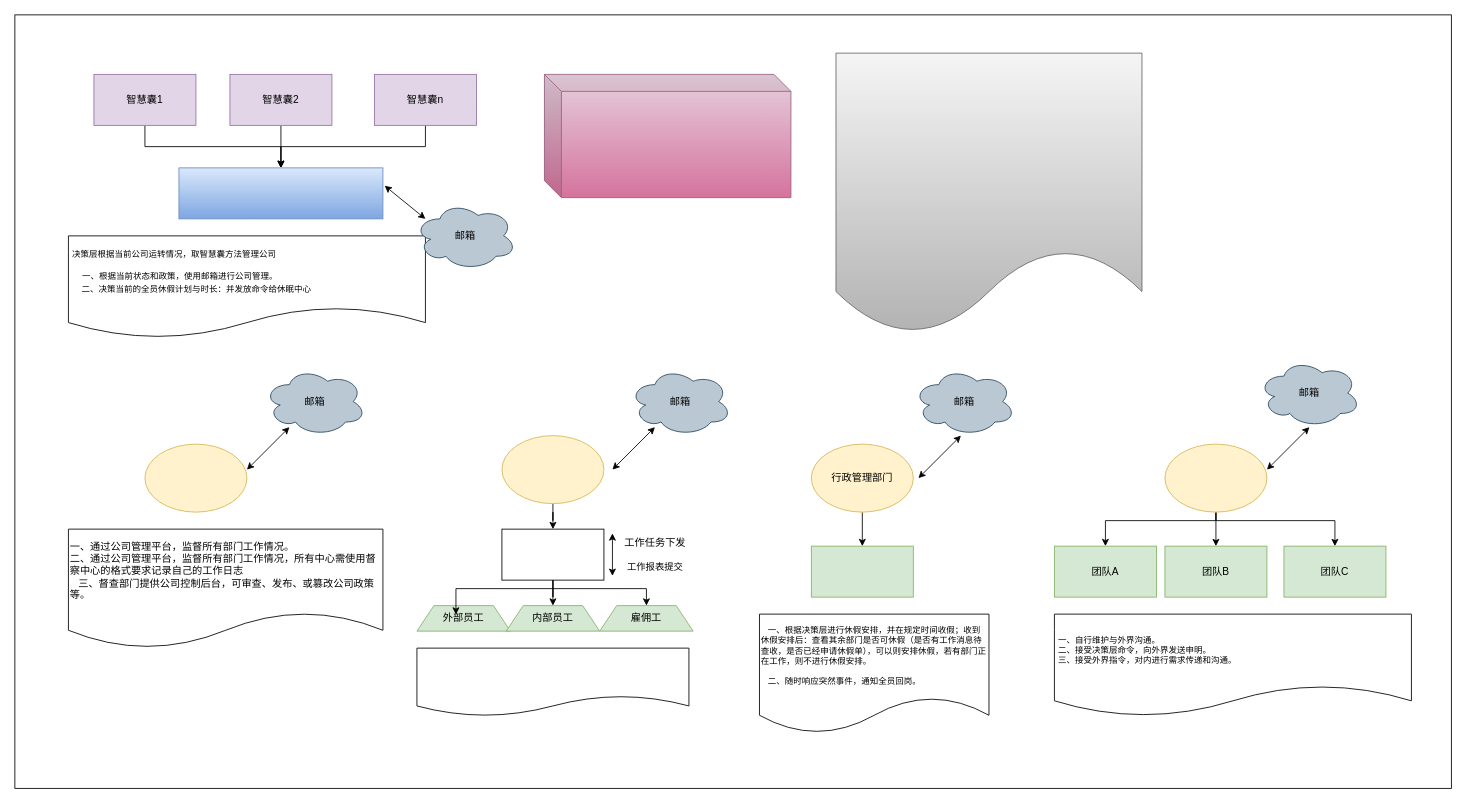
Image size: 1466x803. Some labels were removed from this diagram. Each missing label, with the centre of its shape:
"一、员工只接受内部工作消息，服务完成立即休假。 二、对“重要工作消息”，完成后提供当前工作报表。 三、对“普通工作消息”，自行完成，不做要求。" belongs at (552,681).
"事件主管" belongs at (552,554).
"休假员" belongs at (861,571).
"公司政策： 1.除外聘员工外，所有部门休假均需要提休假申请单 2.所有部门和决策层需定期向督查部门汇报工作状态（是否宕机）" belongs at (988,193).
"公司管理平台系统： 1.用于各部门工作结果保存 2.用于各部门请假申请填报 3.用于各部门填写督查中心汇报" belongs at (667,136).
"决策层" belongs at (280,193).
"媒体部门" belongs at (1215,477).
"执行部门 （事件中心）" belongs at (552,469).
"督查部门" belongs at (195,477).
